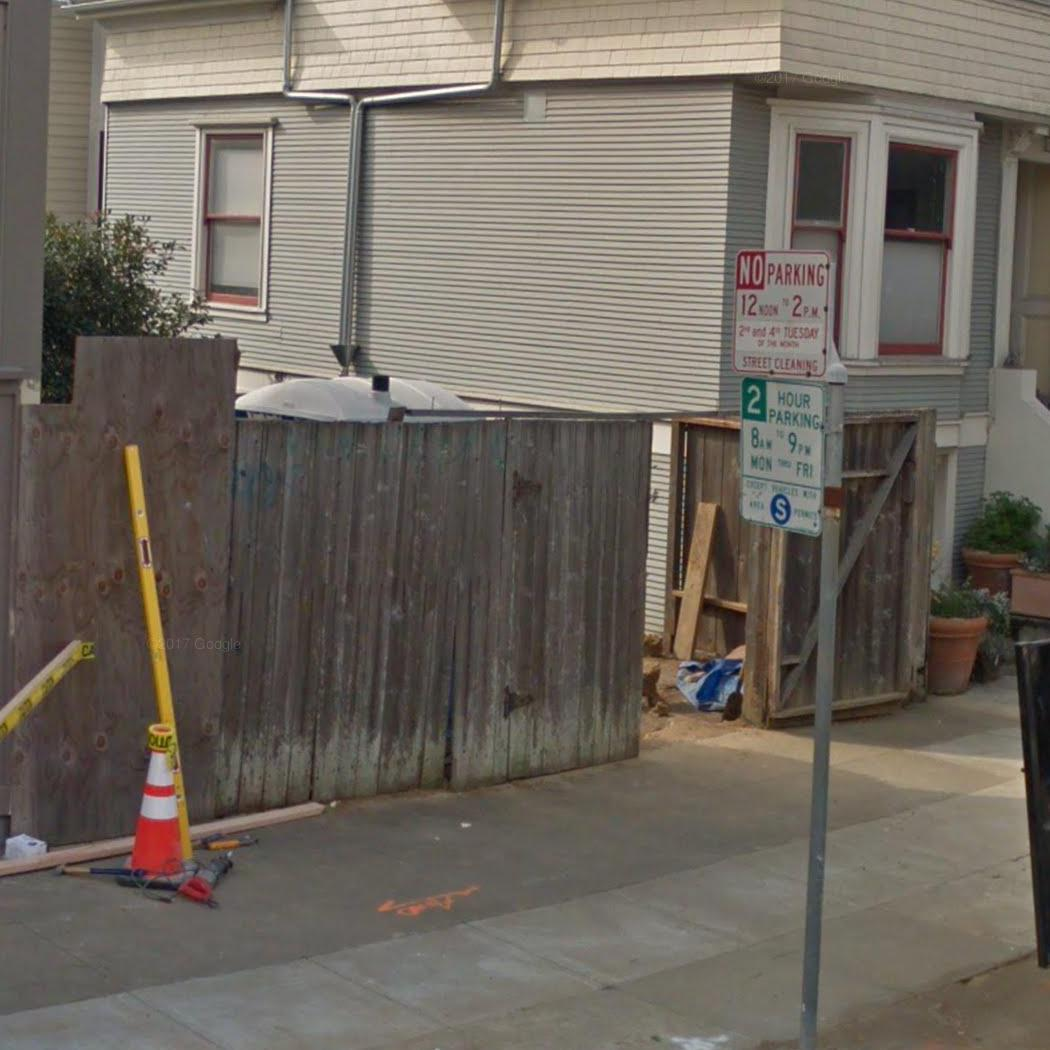2 Hour Parking: (733, 376, 829, 540)
No Parking: (729, 243, 838, 387)
